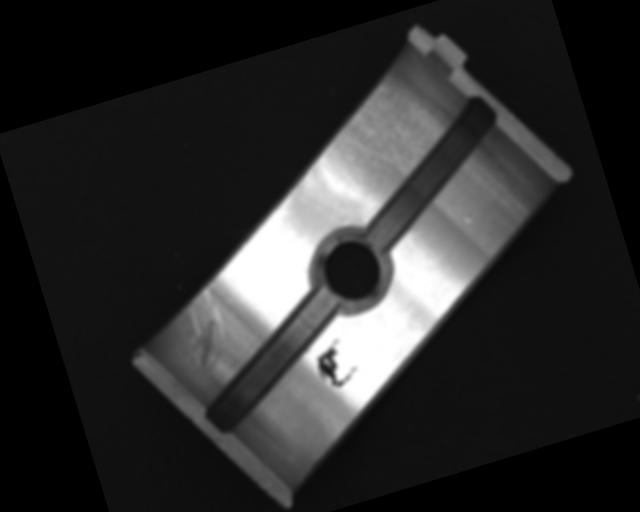blot: (310, 334, 362, 392)
bruise: (462, 212, 476, 225)
gap: (335, 92, 524, 253), (179, 285, 359, 436)
hole: (303, 222, 403, 321)
nick: (173, 284, 236, 379)
scratch: (276, 61, 455, 205)
